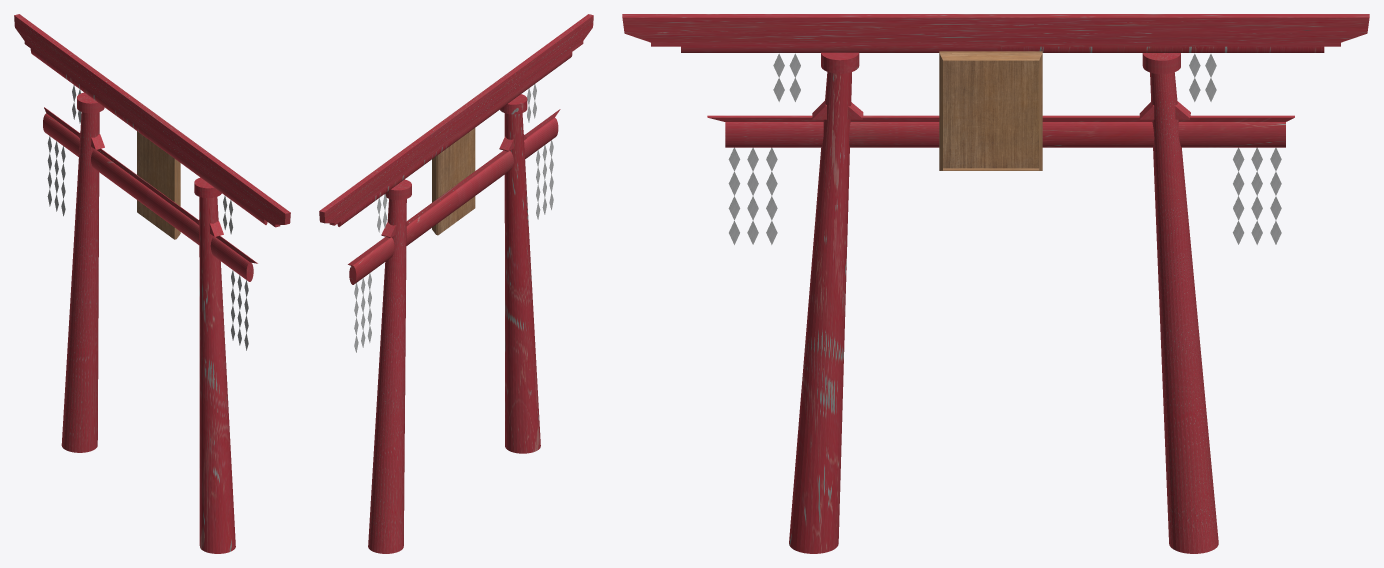
The model's file is shrine.obj.
3 renders of one model, left to right at view 1: azimuth 30°, elevation 25°; view 2: azimuth 150°, elevation 25°; view 3: azimuth 270°, elevation 25°, orthographic. The views are drawn at different scales.
Parts seen in each view (by area): view 1: Cube.005_Cube.006, Cube.001_Cube.002, Cube.015_Cube.016; view 2: Cube.005_Cube.006, Cube.001_Cube.002, Cube.015_Cube.016; view 3: Cube.005_Cube.006, Cube.001_Cube.002, Cube.015_Cube.016.
Part boxes in pixels (bbox=[...]): Cube.005_Cube.006: bbox=[14, 14, 290, 553]; Cube.001_Cube.002: bbox=[137, 131, 180, 239]; Cube.015_Cube.016: bbox=[47, 85, 248, 350]; Cube.005_Cube.006: bbox=[319, 14, 593, 553]; Cube.001_Cube.002: bbox=[432, 128, 475, 235]; Cube.015_Cube.016: bbox=[354, 84, 553, 352]; Cube.005_Cube.006: bbox=[622, 14, 1369, 553]; Cube.001_Cube.002: bbox=[939, 51, 1042, 170]; Cube.015_Cube.016: bbox=[728, 53, 1281, 244].
Bounding box in the file's own units: 2.08 × 24.4 × 31.29.
